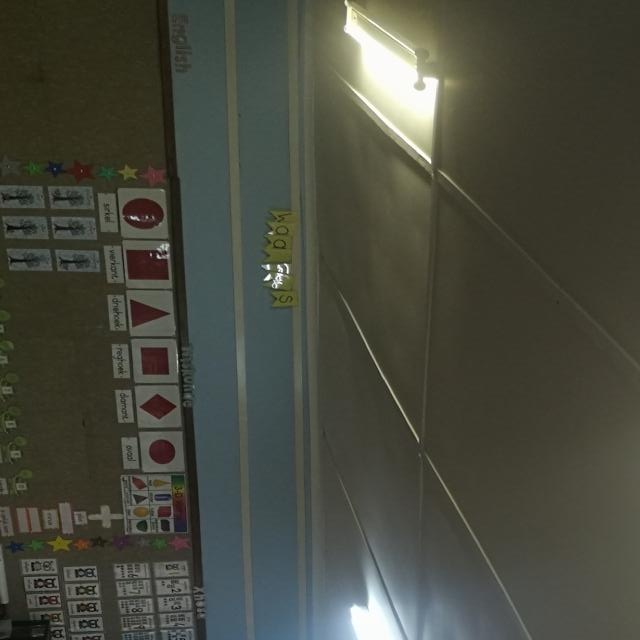fluorescent tube: (304, 0, 457, 135), (295, 572, 437, 640)
